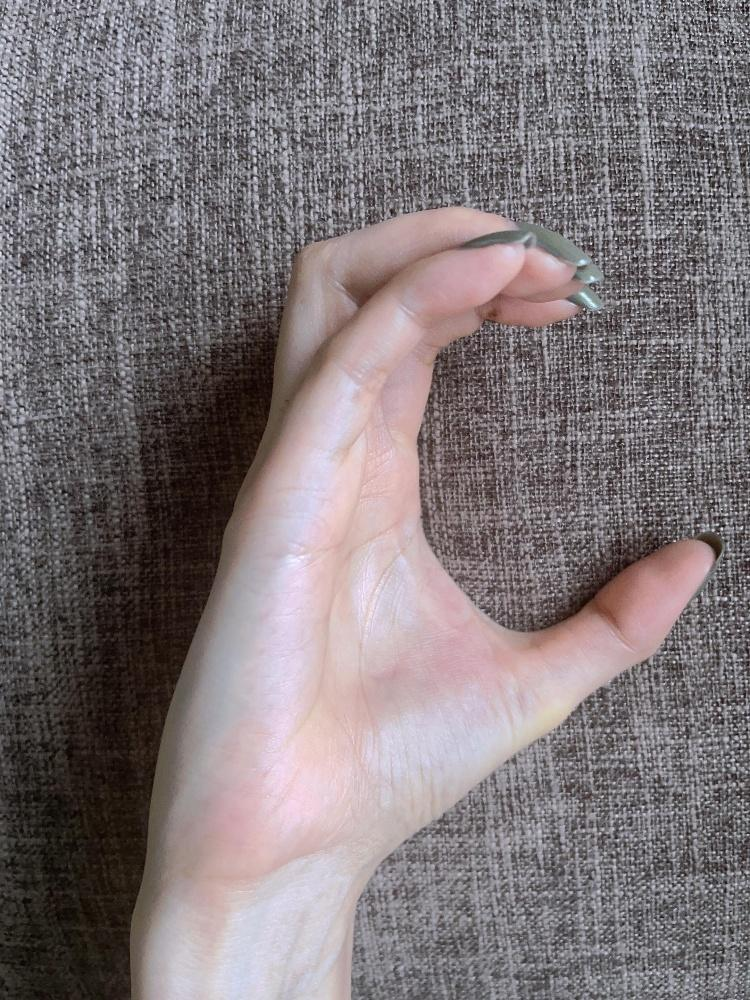c: (140, 194, 728, 881)
